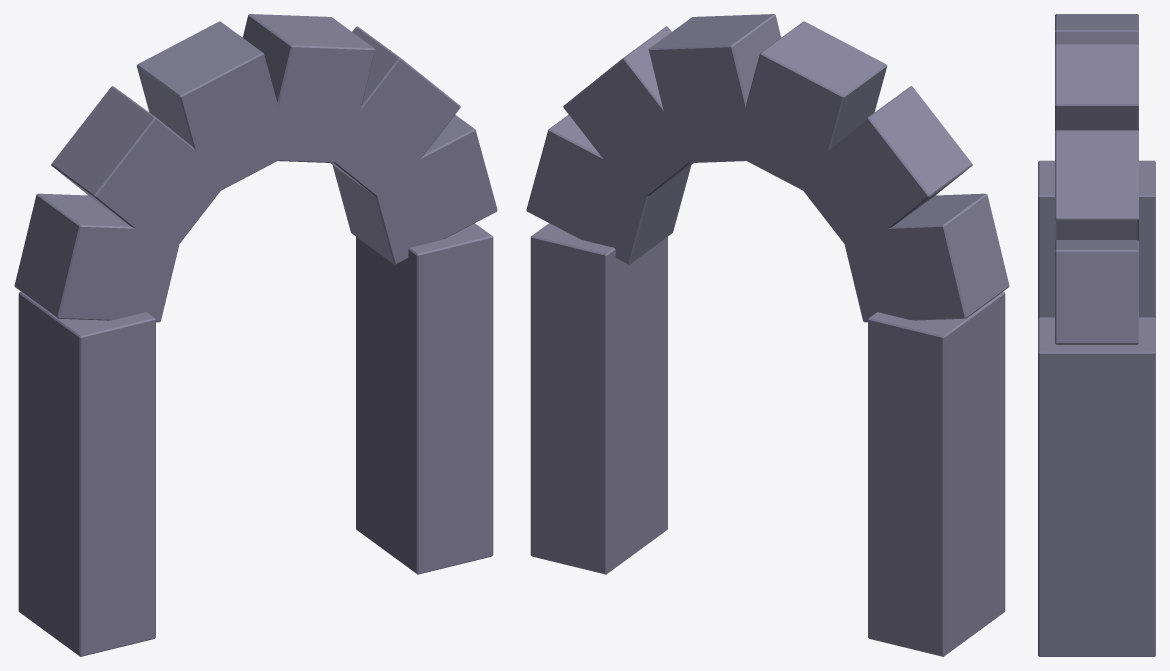
The model's file is ruin_arch_small_01.glb.
The picture shows the model from 3 angles, left to right: view 1: azimuth 30°, elevation 25°; view 2: azimuth 150°, elevation 25°; view 3: azimuth 270°, elevation 25°; orthographic projection. The views are drawn at different scales.
Parts seen in each view (by area): view 1: ruin_arch_small_01; view 2: ruin_arch_small_01; view 3: ruin_arch_small_01.
Part boxes in pixels (x1,y1,x2,y2): ruin_arch_small_01: (14,14,497,656); ruin_arch_small_01: (526,14,1009,656); ruin_arch_small_01: (1038,14,1155,656).
Bounding box in the file's own units: 1.44 × 1.72 × 0.35.
